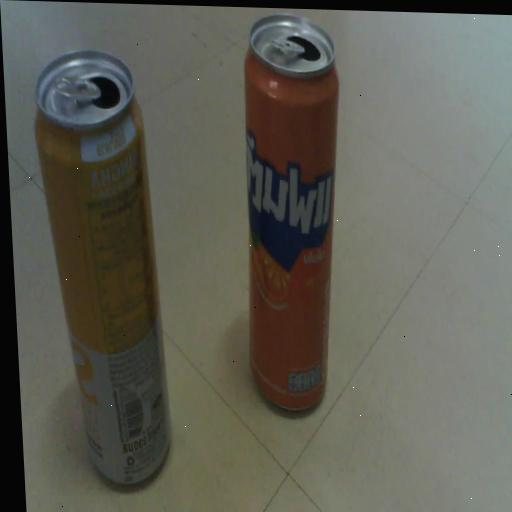canned: (23, 29, 188, 501), (218, 6, 365, 443)
